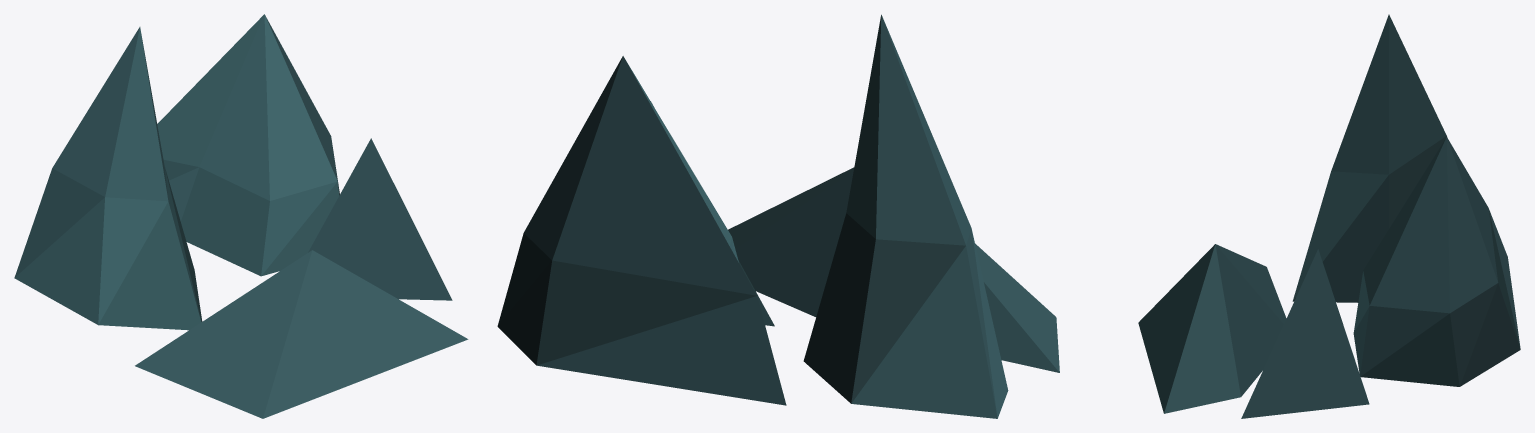
File: rune-rocks.obj
3 views of the same model, side by side, from view 1: azimuth 30°, elevation 25°; view 2: azimuth 150°, elevation 25°; view 3: azimuth 270°, elevation 25° (orthographic). The views are drawn at different scales.
Visible parts, largest first — view 1: Object Runite rocks 2026-09-24_20-20-55; view 2: Object Runite rocks 2026-09-24_20-20-55; view 3: Object Runite rocks 2026-09-24_20-20-55.
Part boxes in pixels (<box>): Object Runite rocks 2026-09-24_20-20-55: <box>14,14,468,418</box>; Object Runite rocks 2026-09-24_20-20-55: <box>497,14,1059,418</box>; Object Runite rocks 2026-09-24_20-20-55: <box>1138,14,1520,418</box>.
Size of the model in its own units: 126 by 106 by 119.
